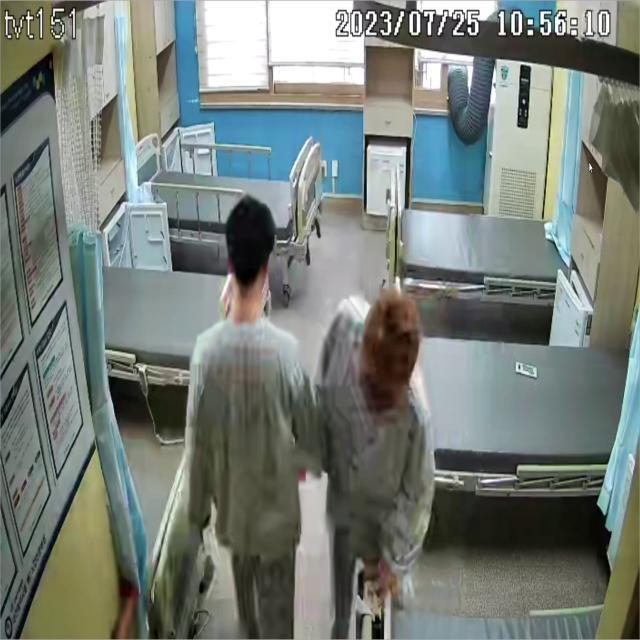bed: (379, 336, 634, 491), (81, 229, 268, 388), (134, 133, 328, 242), (386, 204, 572, 300)
patient: (184, 195, 311, 640), (314, 286, 429, 640)
